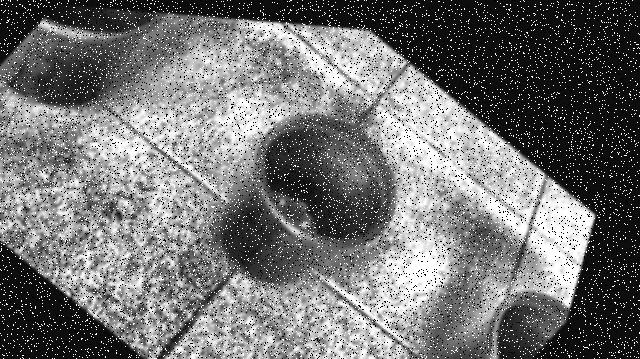pot: (218, 113, 396, 284), (0, 4, 166, 107), (429, 290, 570, 359)
